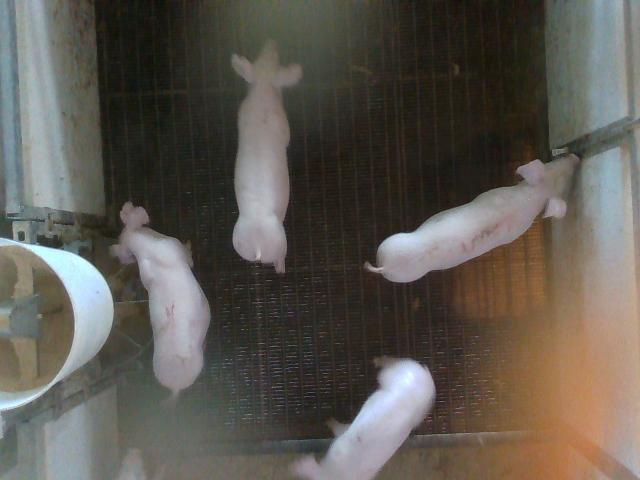pig-3: (366, 154, 580, 282)
